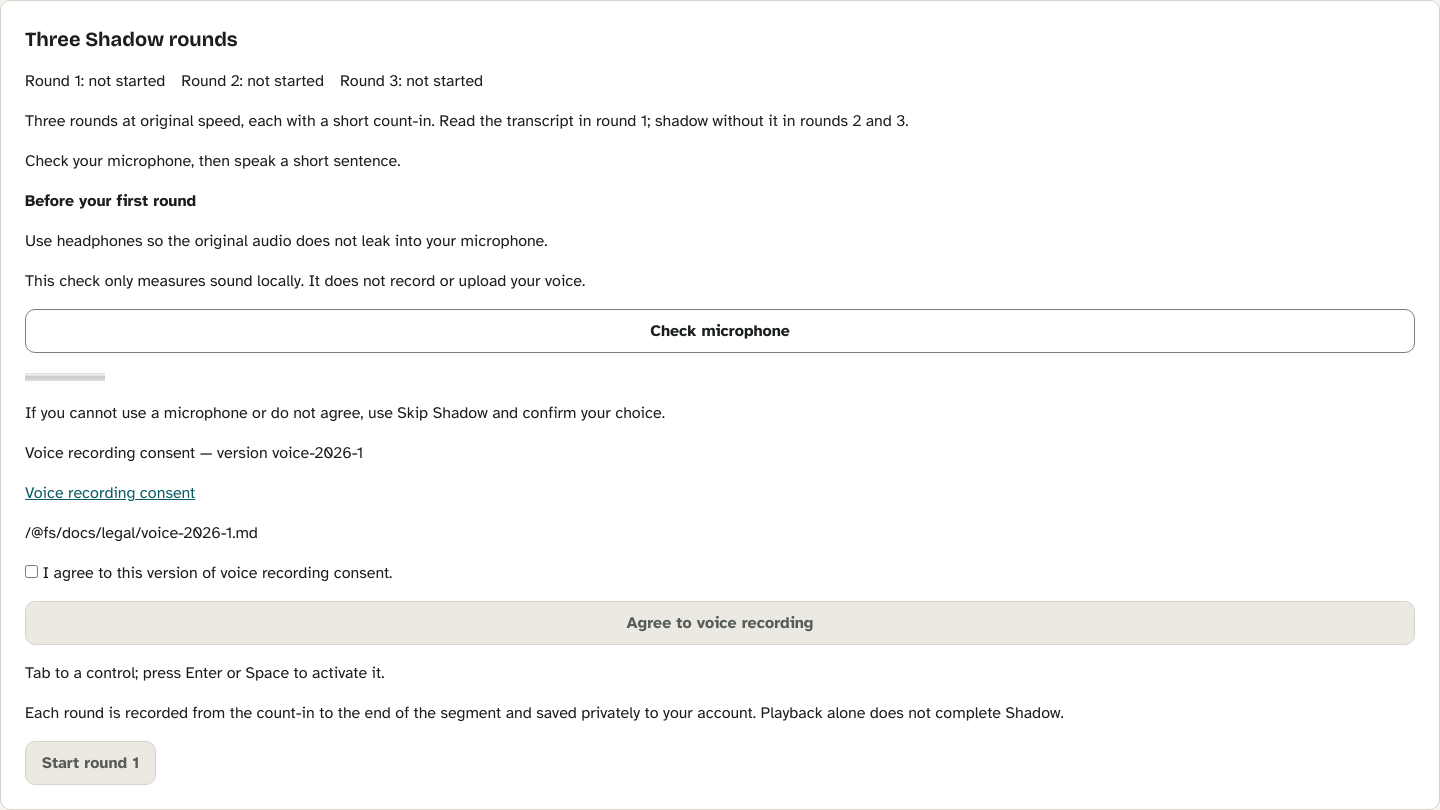
requires a new unchecked agreement after accepting and then losing consent
Click the checkbox labelled "I agree to this version of voice recording consent." at (32, 572), box top-left (25, 565), bottom-right (38, 578)
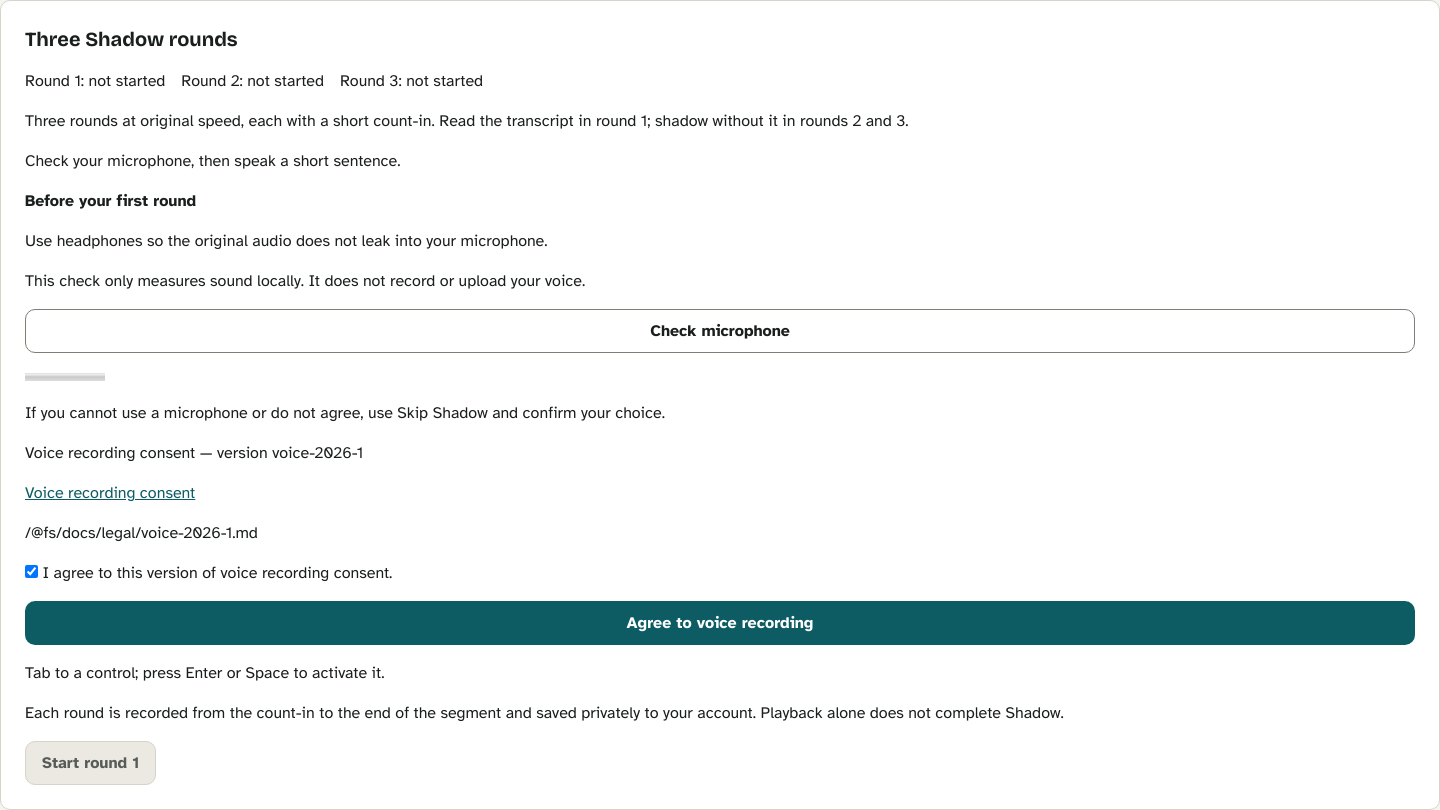
Click the button "Agree to voice recording" at (720, 623), box top-left (25, 601), bottom-right (1415, 645)
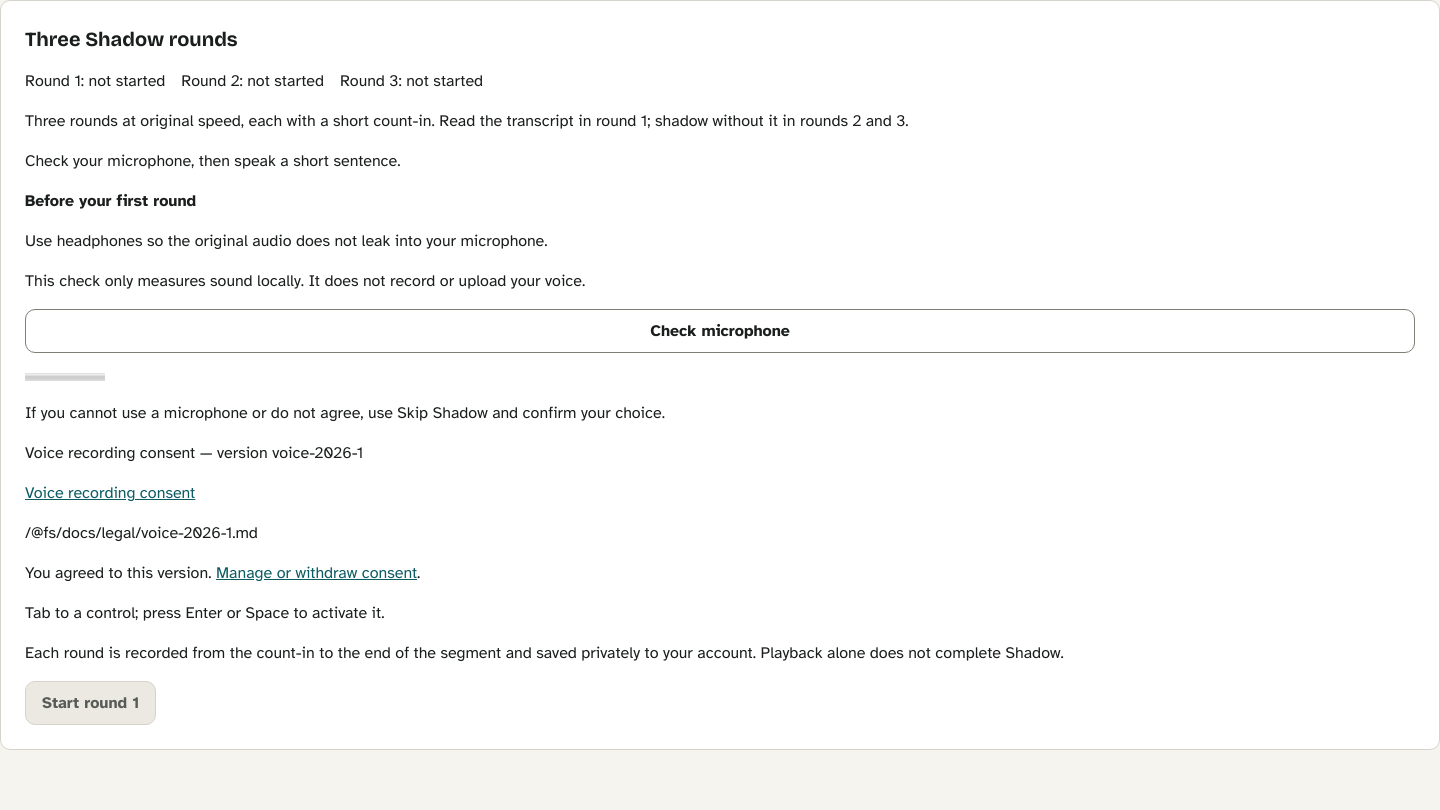
Check: the text "You agreed to this version. Manage or withdraw consent ." is shown, box top-left (25, 563), bottom-right (420, 583)
Click the button "Check microphone" at (720, 331), box top-left (25, 309), bottom-right (1415, 353)
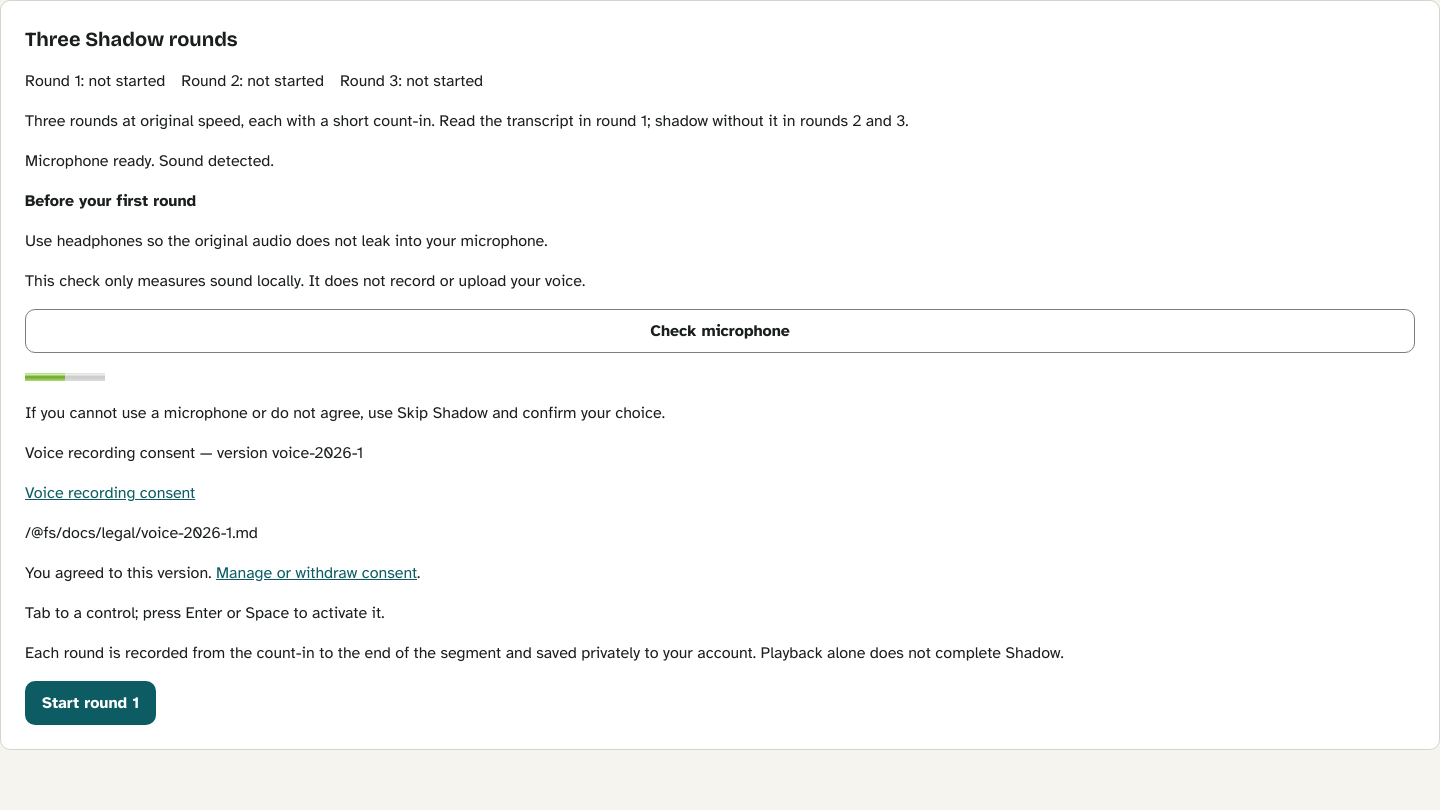
Check: the text "Microphone ready. Sound detected." is shown, box top-left (25, 151), bottom-right (274, 171)
Click the button "Start round 1" at (91, 703), box top-left (25, 681), bottom-right (156, 725)
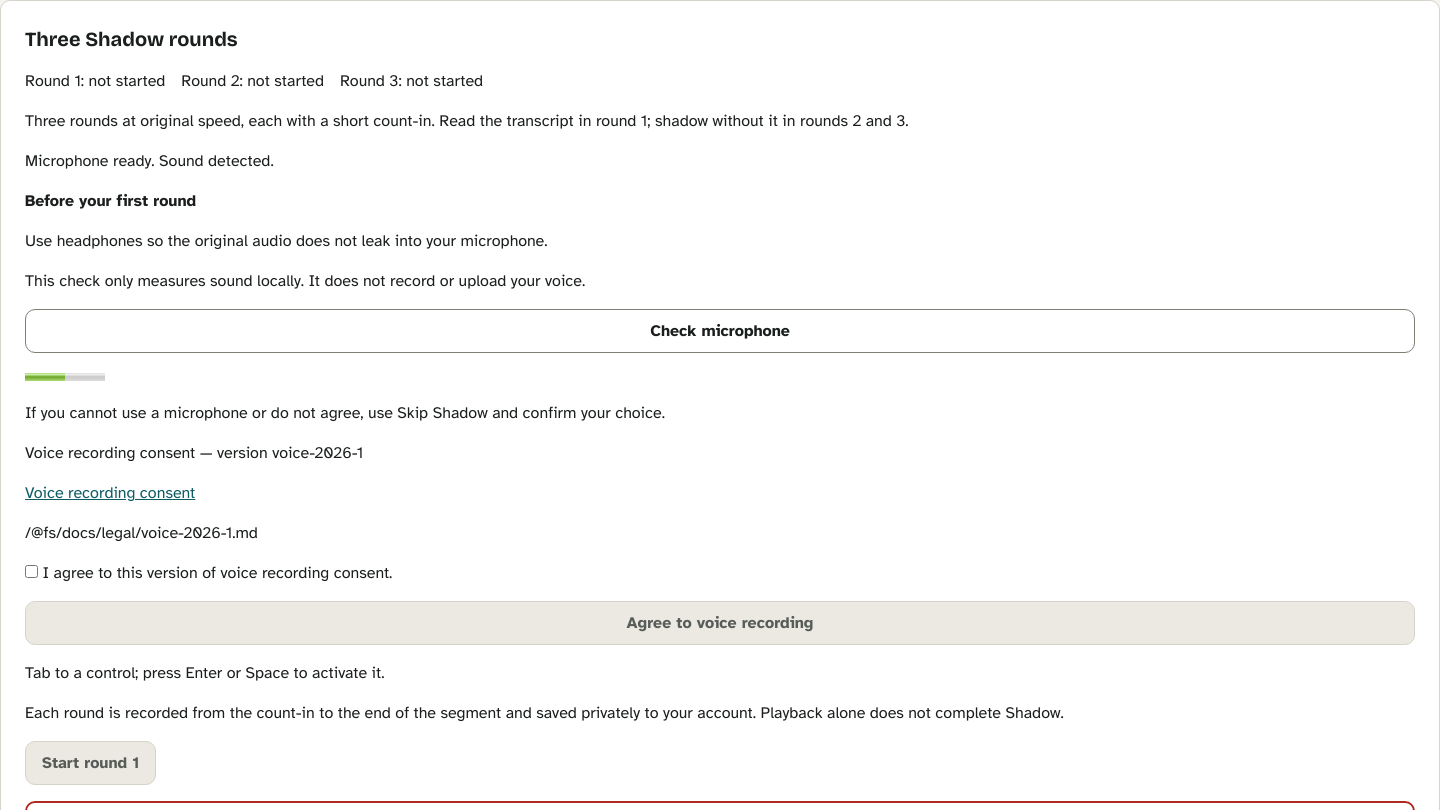
Check: the checkbox labelled "I agree to this version of voice recording consent." is not checked, box top-left (25, 565), bottom-right (38, 578)
